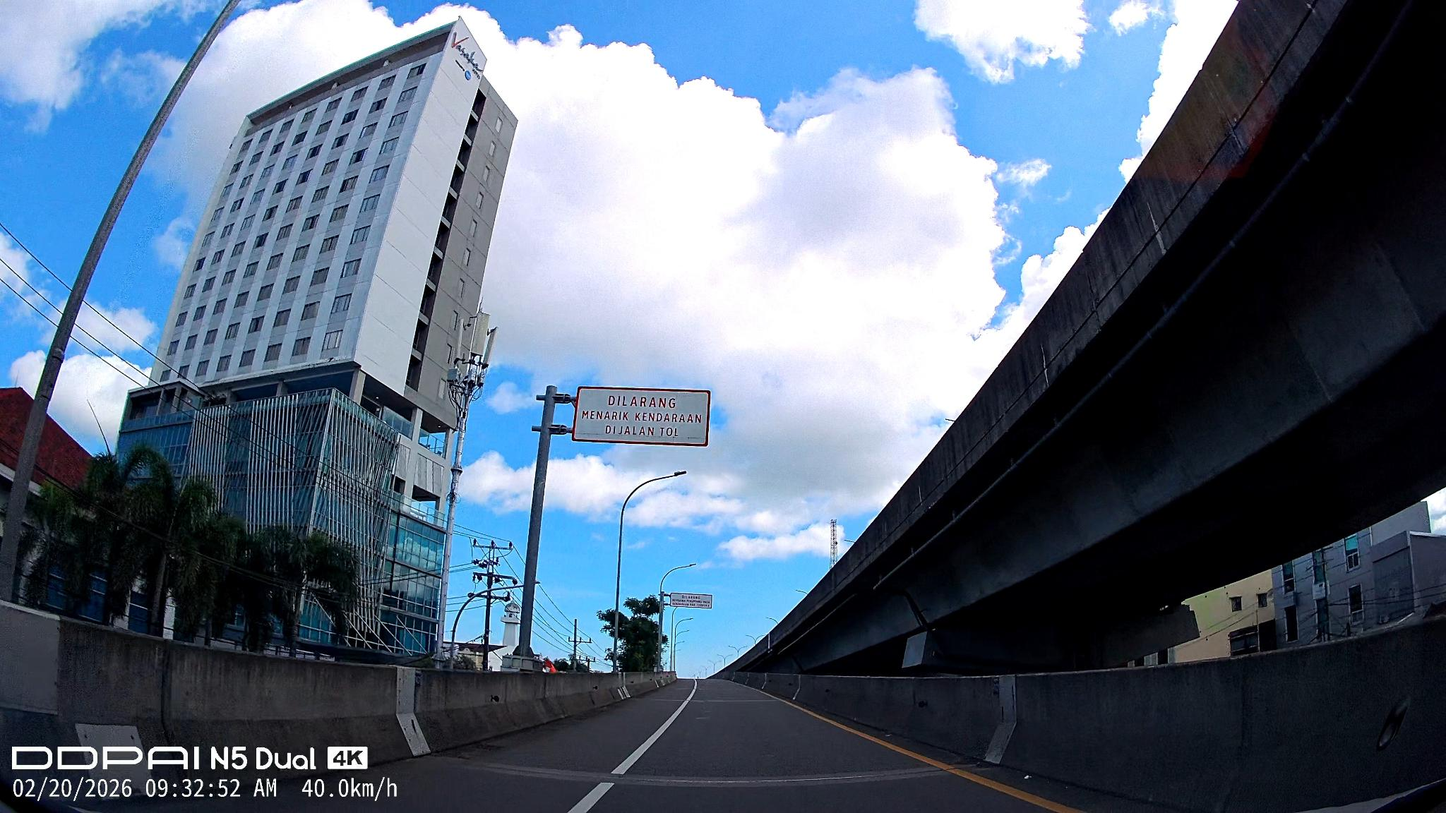rambu_teks: (573, 387, 710, 447)
